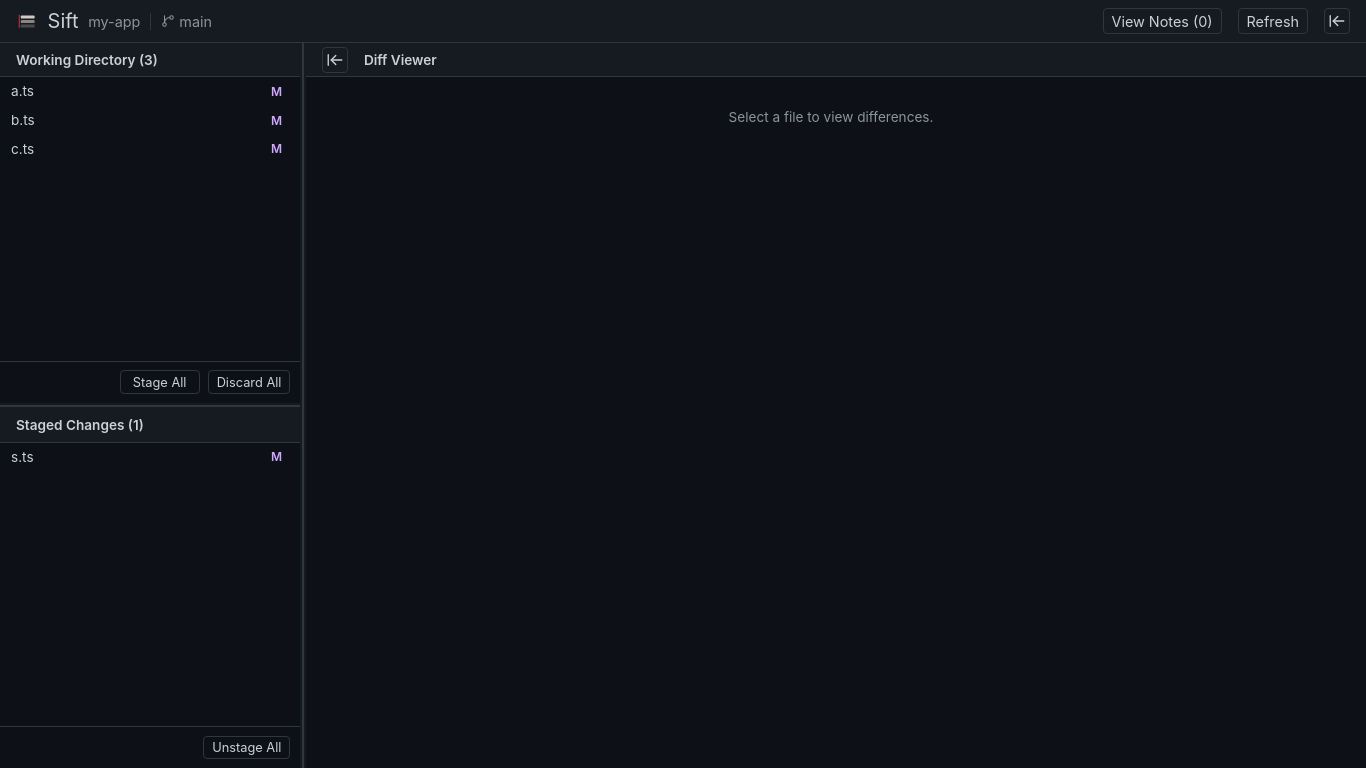
Test: RepositoryViewerPage interactions › resets the repository filter after the sidebar is closed
Click the button named "Open repository sidebar": click(1337, 21) [1324,8,1350,34]
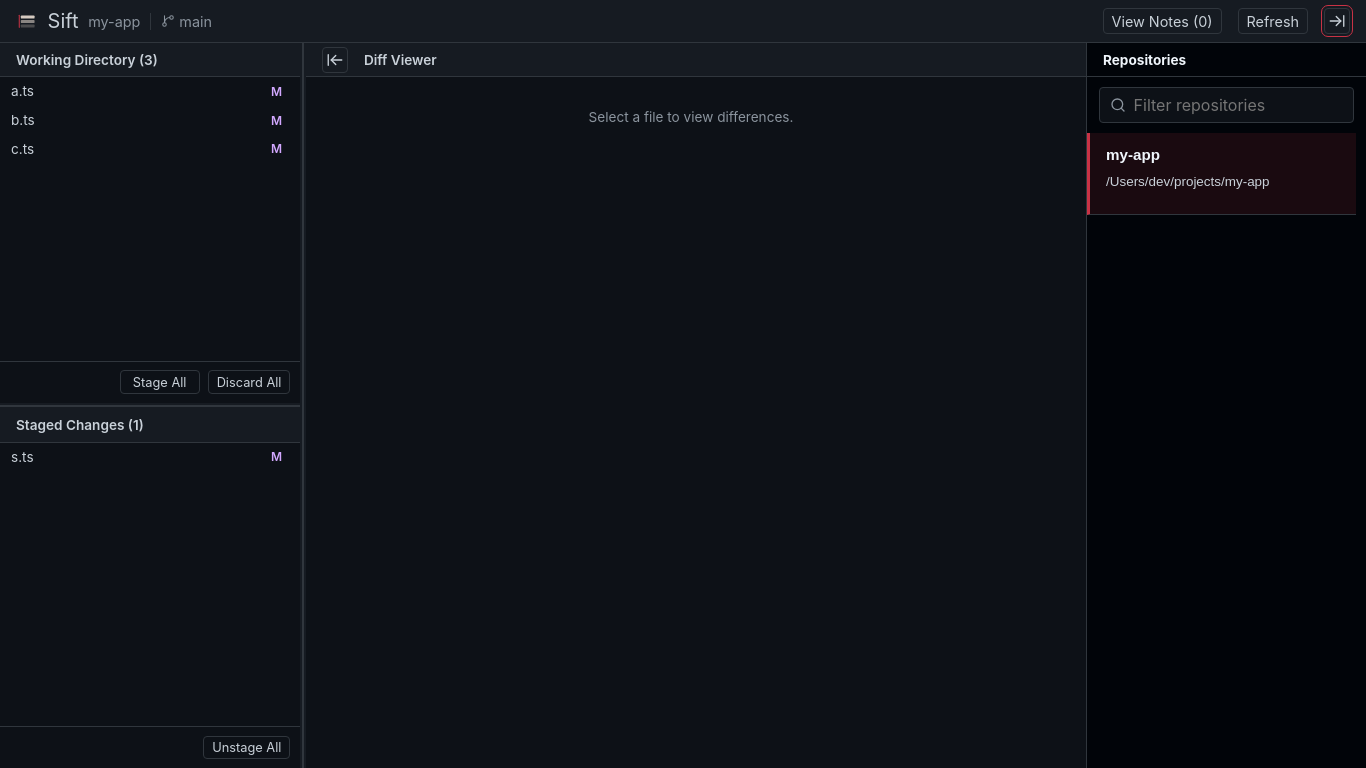
In the field labelled "Filter repositories": (1238, 105) [1134,95,1343,115], type "missing"
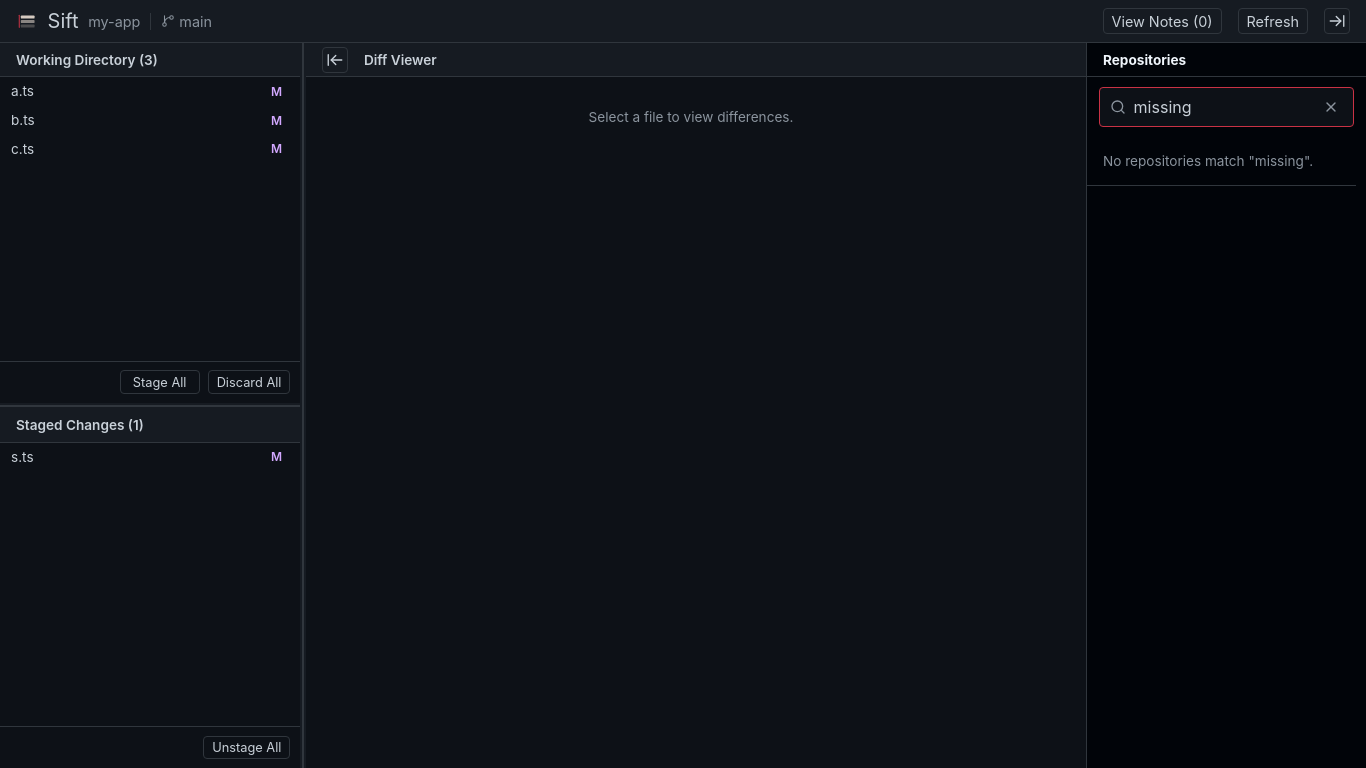
Now the text "No repositories match \"missing\"." is shown, box [1087,137,1356,186]
Click the button named "Close repository sidebar": click(1337, 21) [1324,8,1350,34]
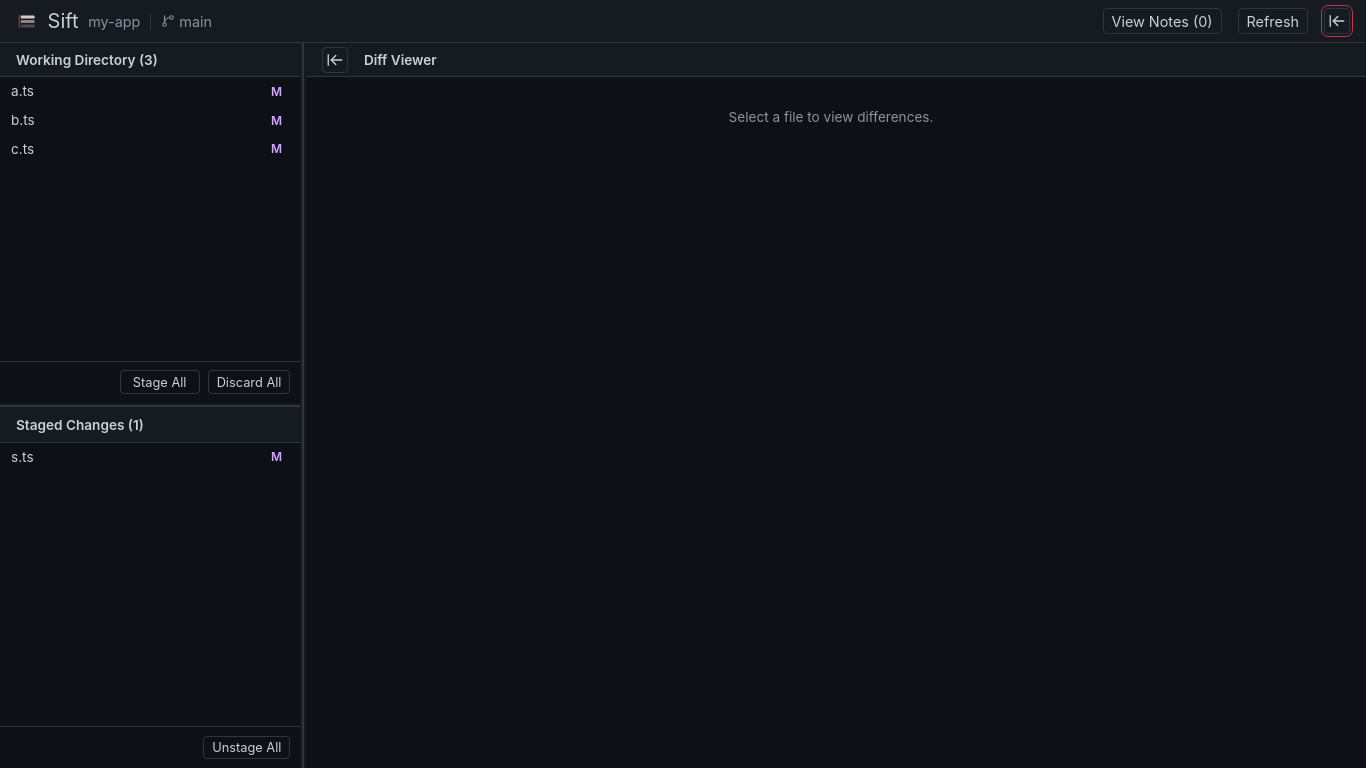
Click the button named "Open repository sidebar": click(1337, 21) [1324,8,1350,34]
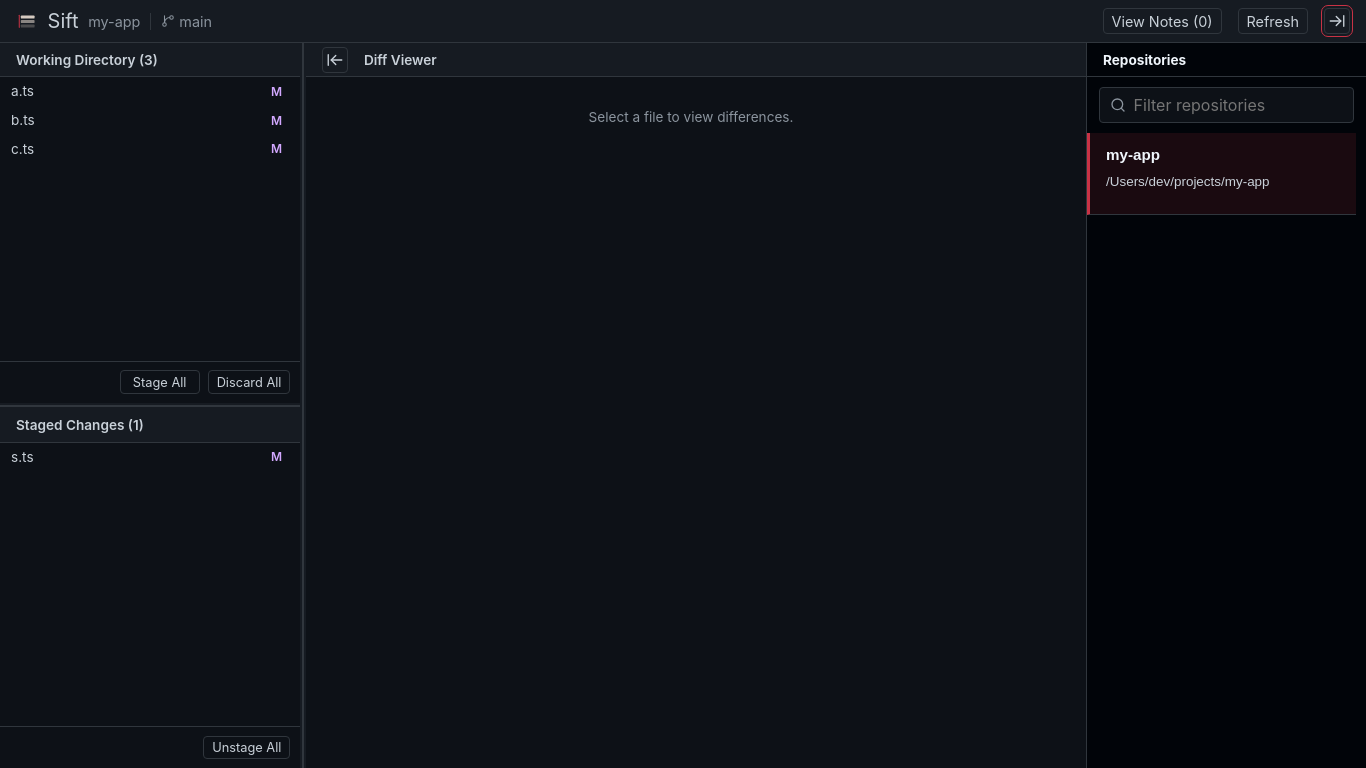
Now the field labelled "Filter repositories" is empty, box [1134,95,1343,115]
Now the button "my-app /Users/dev/projects/my-app" is shown, box [1087,133,1356,215]
